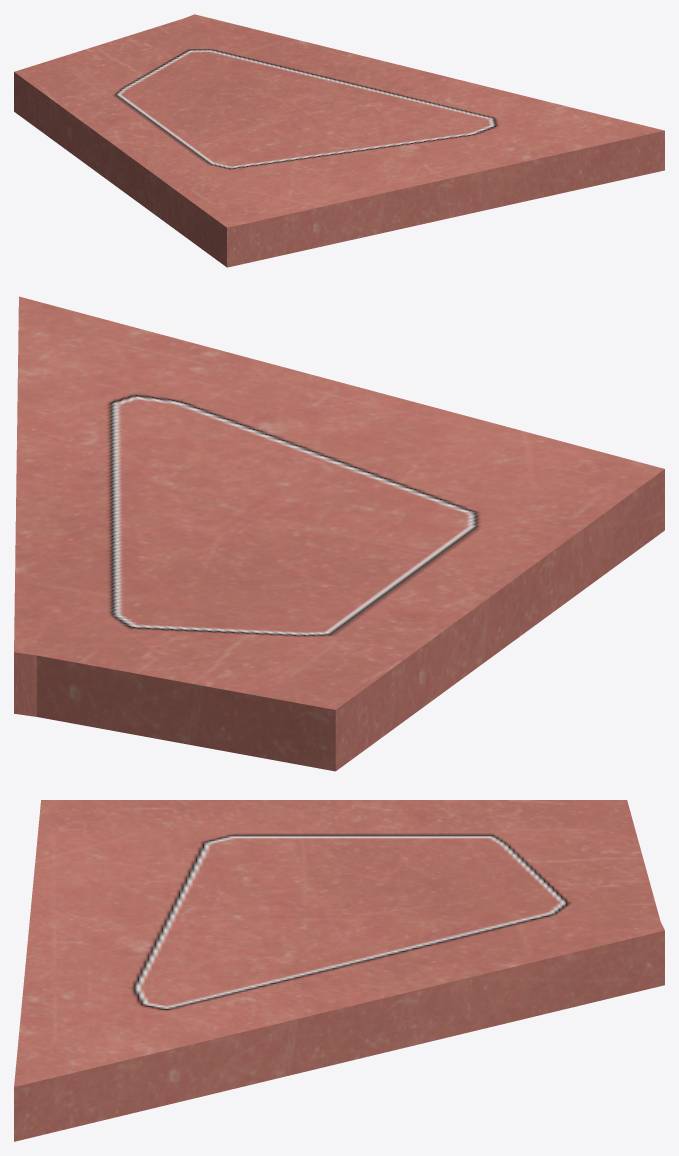
The model's file is SM_SJJ_HG_Wall06O.fbx.
3 views of the same model, one above another, from view 1: azimuth 30°, elevation 25°; view 2: azimuth 150°, elevation 25°; view 3: azimuth 270°, elevation 25° (orthographic). The views are drawn at different scales.
Visible parts, largest first — view 1: SM_SJJ_HG_Wall06O; view 2: SM_SJJ_HG_Wall06O; view 3: SM_SJJ_HG_Wall06O.
Part boxes in pixels (x1=…): SM_SJJ_HG_Wall06O: x1=14, y1=14, x2=664, y2=267; SM_SJJ_HG_Wall06O: x1=14, y1=296, x2=664, y2=771; SM_SJJ_HG_Wall06O: x1=14, y1=800, x2=664, y2=1141.
Bounding box in the file's own units: 120 × 115 × 10.62.
1 material, 1 textured.
